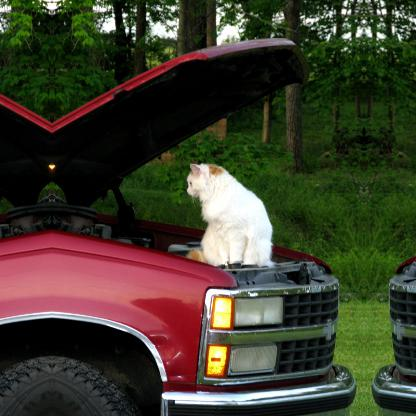Cat: (183, 161, 276, 266)
